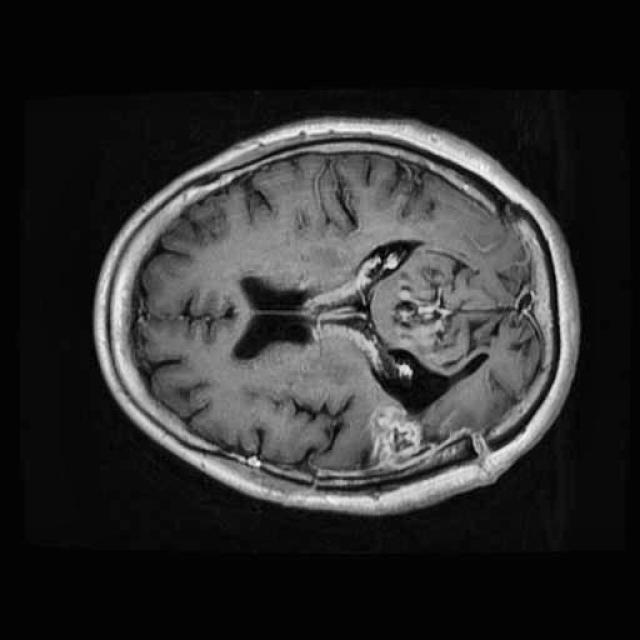Tumor: (354, 393, 454, 479)
